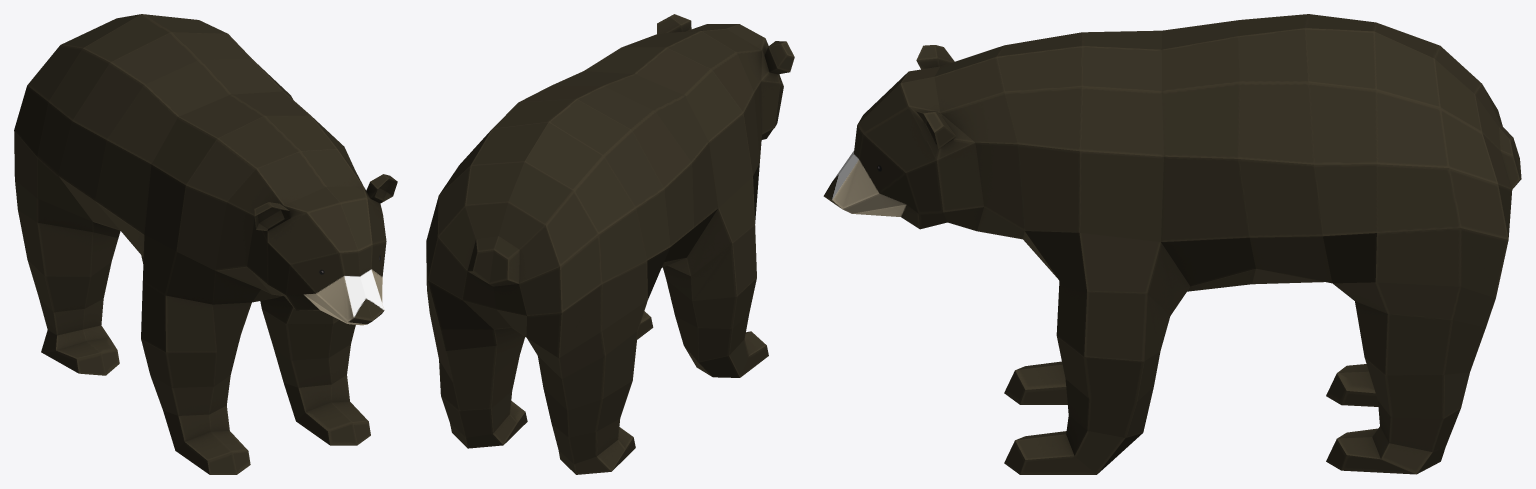
File: Black bear.glb
3 views of the same model, side by side, from view 1: azimuth 30°, elevation 25°; view 2: azimuth 150°, elevation 25°; view 3: azimuth 270°, elevation 25° (orthographic). The views are drawn at different scales.
Parts seen in each view (by area): view 1: BlackBear_mesh; view 2: BlackBear_mesh; view 3: BlackBear_mesh.
Boxes of the visible parts, bbox=[...] form: BlackBear_mesh: bbox=[14, 14, 397, 474]; BlackBear_mesh: bbox=[426, 14, 794, 474]; BlackBear_mesh: bbox=[823, 14, 1521, 474].
Size of the model in its own units: 6.68 by 10.22 by 16.13.
1 material, 1 textured.
